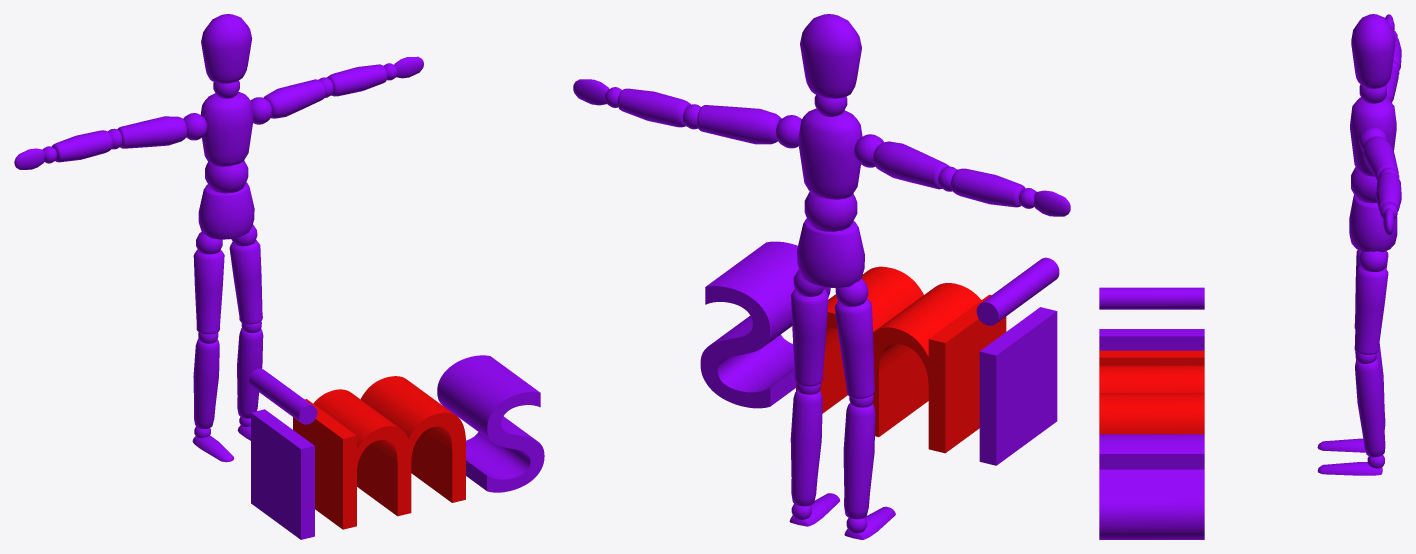
The model's file is ims test.gltf.
The picture shows the model from 3 angles, left to right: view 1: azimuth 30°, elevation 25°; view 2: azimuth 150°, elevation 25°; view 3: azimuth 270°, elevation 25°; orthographic projection. The views are drawn at different scales.
Parts seen in each view (by area): view 1: Extrude-Mat (×2); view 2: Extrude-Mat (×2); view 3: Extrude-Mat (×2).
Boxes of the visible parts, x1,y1,x2,y2 form: Extrude-Mat (×2): [14, 14, 544, 539]; Extrude-Mat (×2): [573, 14, 1070, 539]; Extrude-Mat (×2): [1099, 14, 1401, 539].
Bounding box in the file's own units: 1.83 × 1.8 × 1.11.
